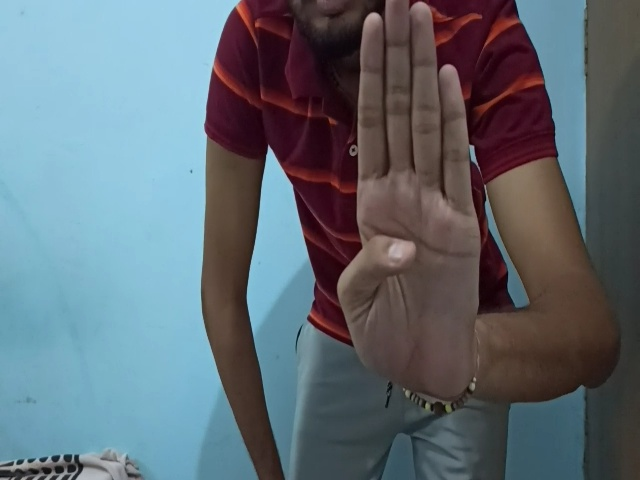B: (334, 2, 476, 404)
